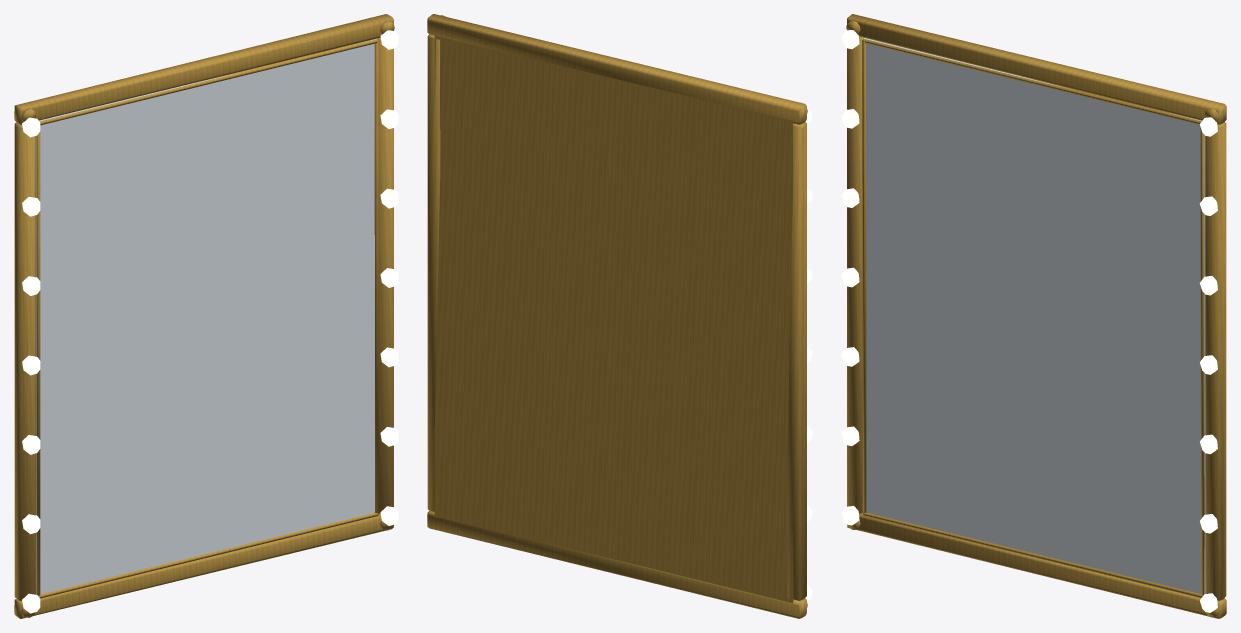
File: espelho-18x24-luz-leve.glb
The picture shows the model from 3 angles, left to right: view 1: azimuth 30°, elevation 25°; view 2: azimuth 150°, elevation 25°; view 3: azimuth 330°, elevation 25°; orthographic projection.
Visible parts, largest first — view 1: vidro, montante, travessa, montante.001, travessa.001, filete.003, filete.002, filete, filete.001; view 2: fundo, montante, travessa, travessa.001, montante.001; view 3: vidro, montante.001, travessa, montante, travessa.001, filete.002, filete.003, filete, filete.001.
Boxes of the visible parts, left/top/right/bottom form: vidro: left=35, top=38, right=377, bottom=594; montante: left=14, top=122, right=35, bottom=600; travessa: left=14, top=14, right=393, bottom=124; montante.001: left=377, top=38, right=393, bottom=513; travessa.001: left=14, top=513, right=393, bottom=618; filete.003: left=374, top=40, right=378, bottom=515; filete.002: left=36, top=131, right=40, bottom=595; filete: left=40, top=39, right=377, bottom=125; filete.001: left=38, top=513, right=377, bottom=598; fundo: left=434, top=35, right=794, bottom=603; montante: left=787, top=122, right=806, bottom=600; travessa: left=427, top=14, right=806, bottom=124; travessa.001: left=427, top=511, right=806, bottom=618; montante.001: left=427, top=34, right=440, bottom=511; vidro: left=863, top=38, right=1205, bottom=594; montante.001: left=1205, top=122, right=1226, bottom=600; travessa: left=847, top=14, right=1226, bottom=124; montante: left=847, top=36, right=863, bottom=513; travessa.001: left=847, top=513, right=1226, bottom=618; filete.002: left=862, top=39, right=866, bottom=514; filete.003: left=1200, top=128, right=1204, bottom=595; filete: left=863, top=39, right=1201, bottom=124; filete.001: left=863, top=512, right=1202, bottom=597.
Size of the model in its own units: 1.98 by 2.58 by 0.1373.
Materials: 3 (1 with a texture image).
